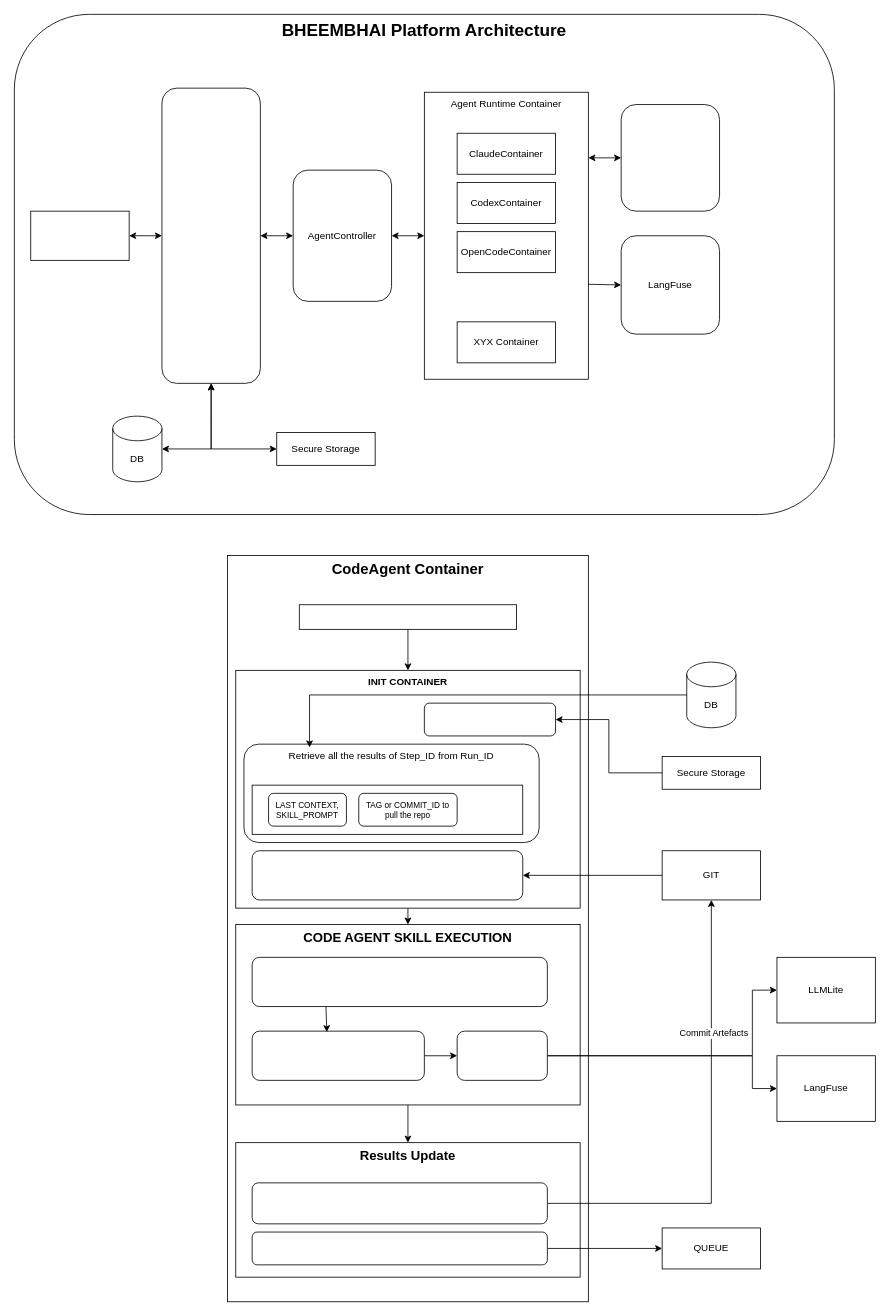
Some shapes in this 890 by 1316 pixel diagram are drawn without their labels. The shapes that lost their labels are listed below. From the top down, each one's centre as x and y in pixels, then its label:
At (x=670, y=157): "LiteLLM".
At (x=79, y=235): "Web UI".
At (x=210, y=235): "BheemBhai API".
At (x=407, y=616): "Gets the RUN_ID, STEP_ID, ATTEMPT_NO".
At (x=490, y=719): "Retrieve API_TOKEN for Claude/Codex/OpenCode ... XYZ".
At (x=387, y=875): "Repo. Checkout based on COMMIT_ID / Tag to workspace folder".
At (x=399, y=982): "CONSTRUCT PROMPT with CONTEXT + SKILL PROMPT".
At (x=337, y=1055): "RUN THE CONSTRUCTED PROMPT".
At (x=501, y=1055): "Code Agent (CLAUDE CODE, CODEX...etc)".
At (x=399, y=1203): "Results Update To DB. (CONTEXT, Results, COMMIT ID/TAG against Run_ID, Step_ID)".
At (x=399, y=1248): "Publish the results (results.json)".
